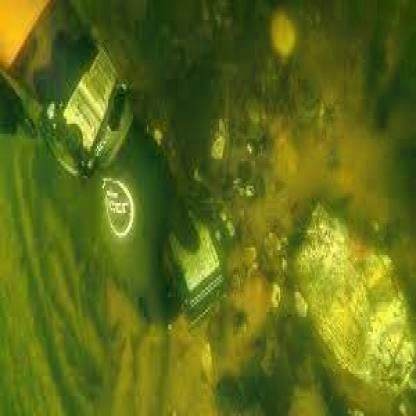misc: (38, 45, 120, 178)
